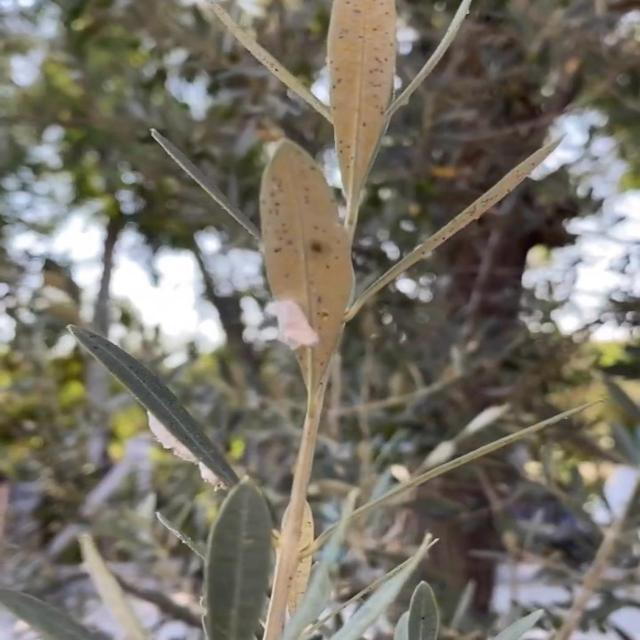Psyllid: (148, 410, 236, 489), (254, 297, 318, 351)
